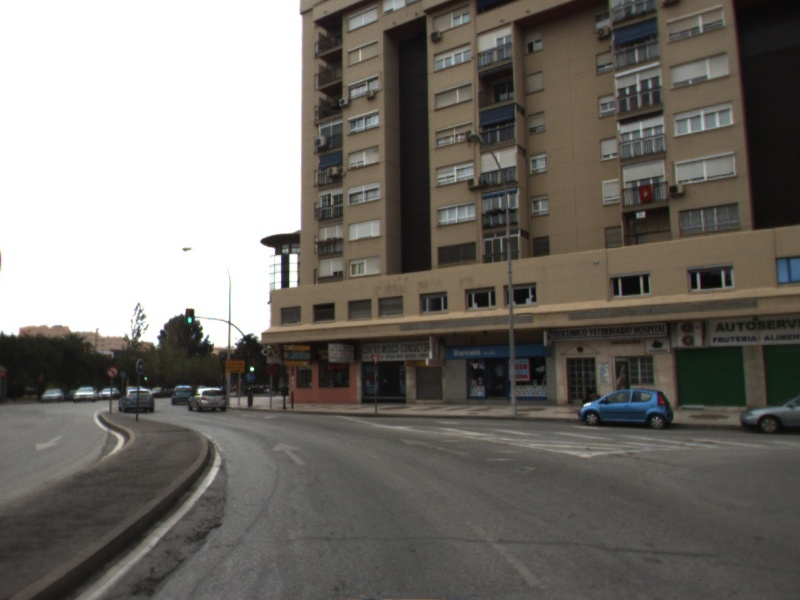STRAIGHT: (397, 436, 471, 457), (269, 440, 308, 467)
